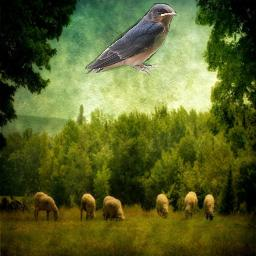Swallow: (85, 3, 177, 78)
